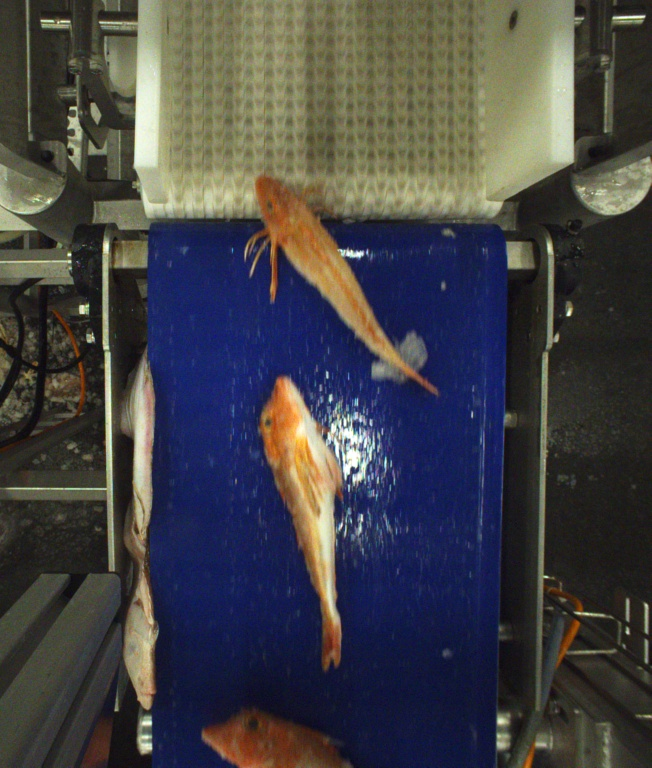GUU: (247, 176, 441, 399)
